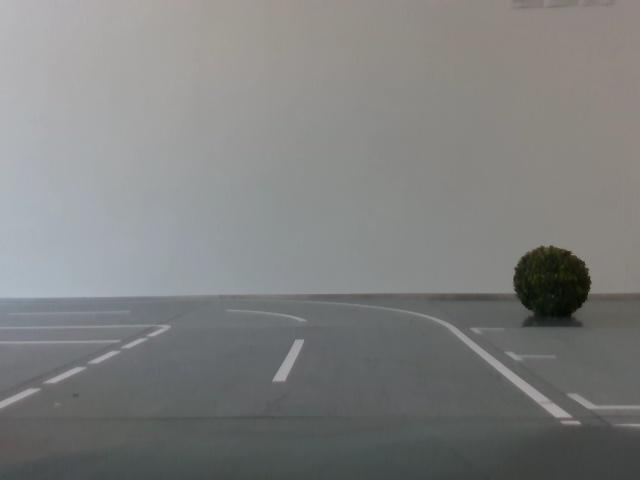potted plant: (516, 243, 596, 328)
